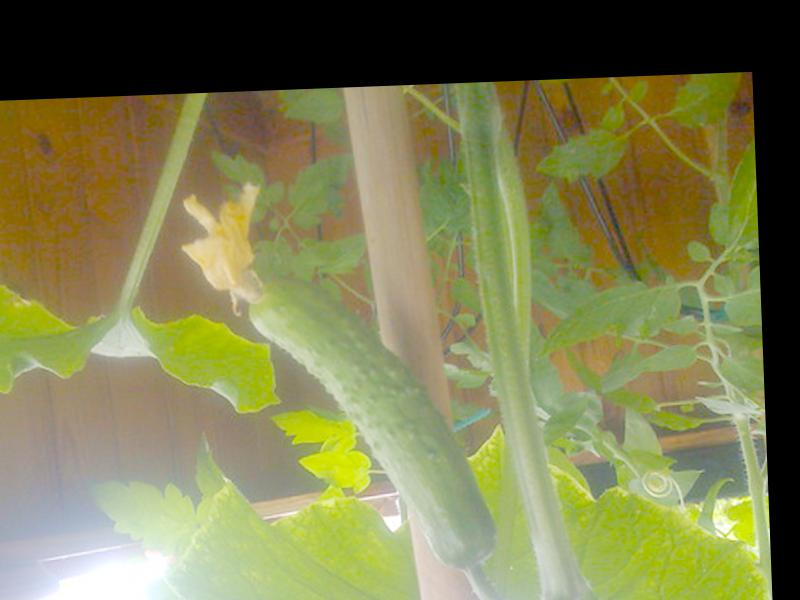Cucumber: (176, 173, 495, 578)
